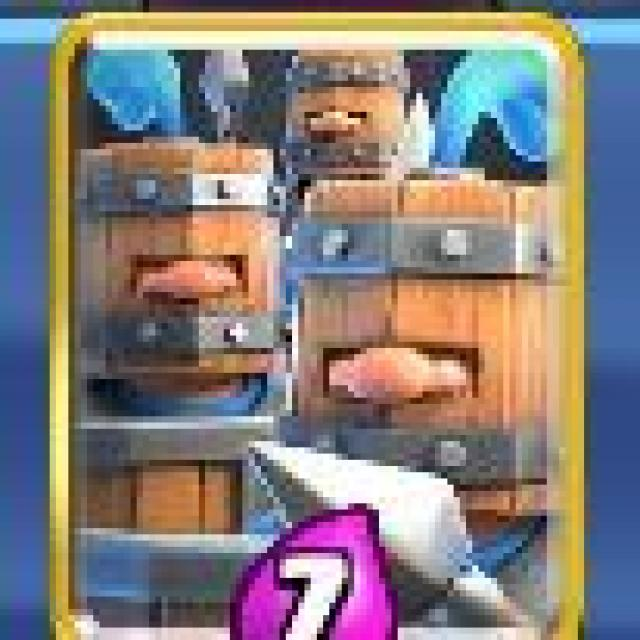Royal_Recruits: (50, 12, 581, 640)
